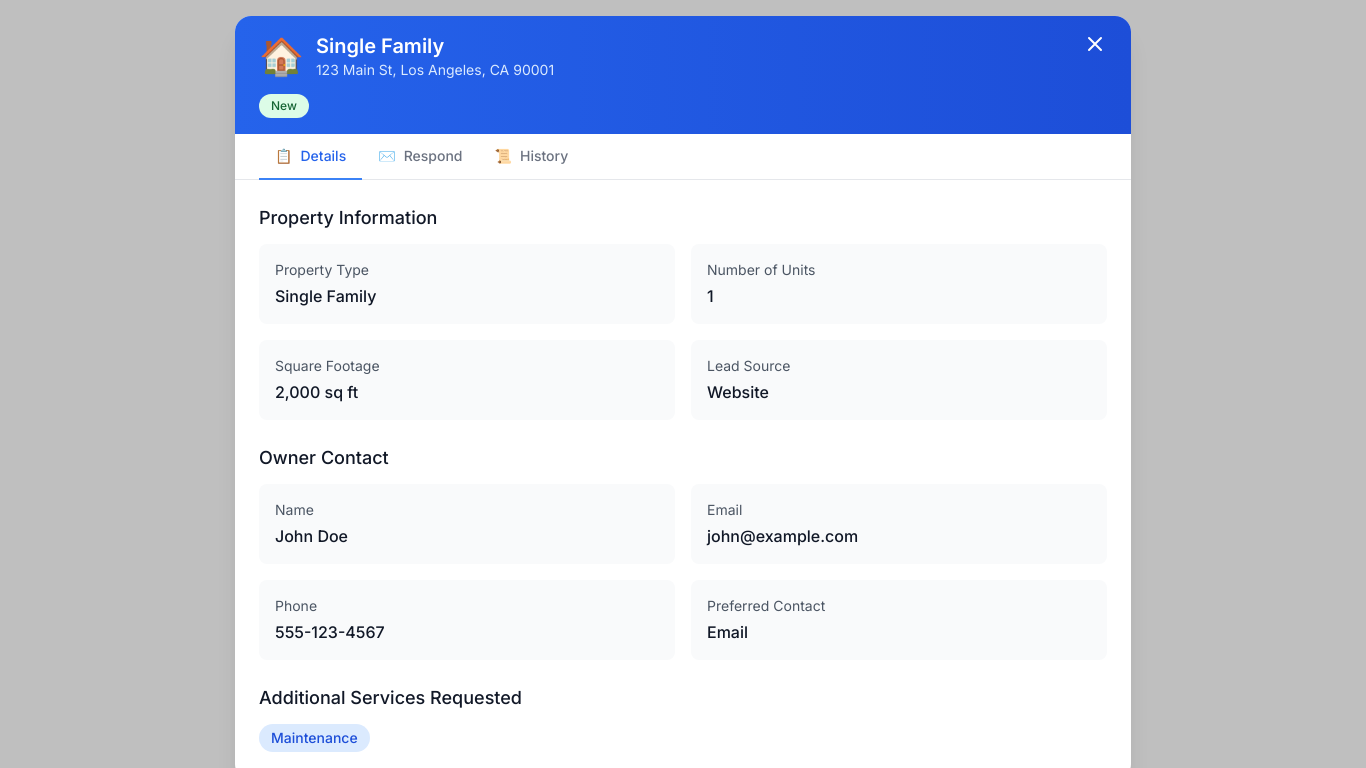
Test: Lead Response System › LeadDetailModal › should switch to respond tab
The width and height of the screenshot is (1366, 768).
Click the button "✉️ Respond".
click(420, 157)  # box [362, 134, 478, 180]
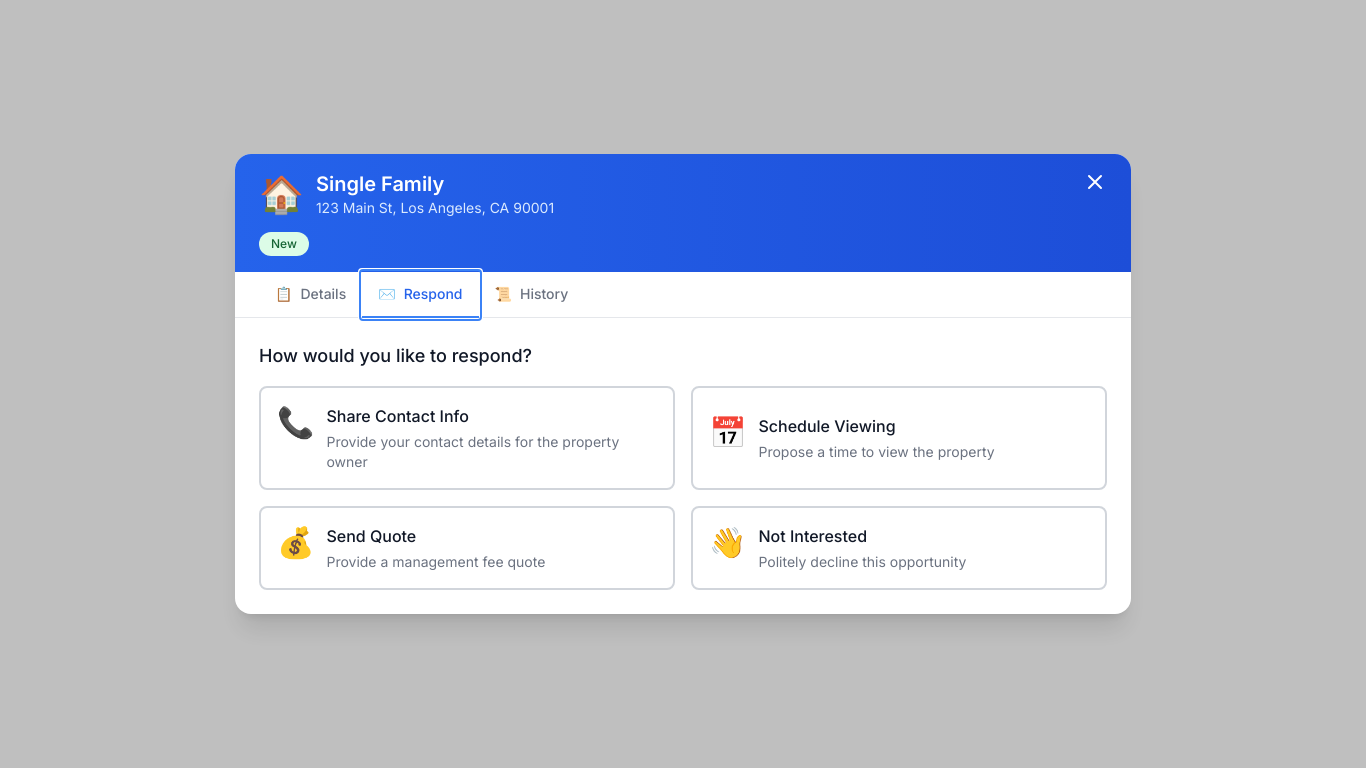
Now the heading "How would you like to respond?" is shown, box [259, 345, 532, 366]
